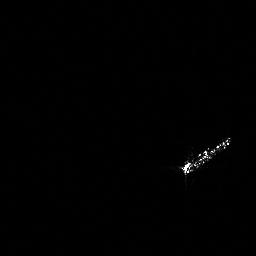ship: (177, 134, 233, 177)
